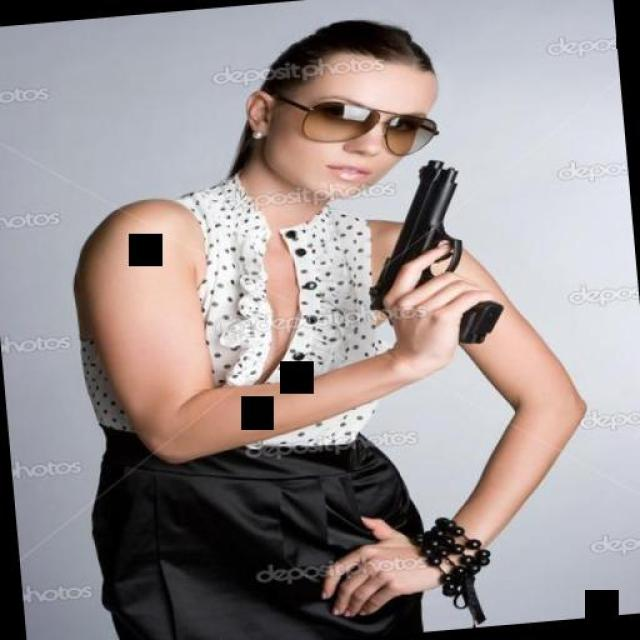gun: (350, 152, 502, 362)
